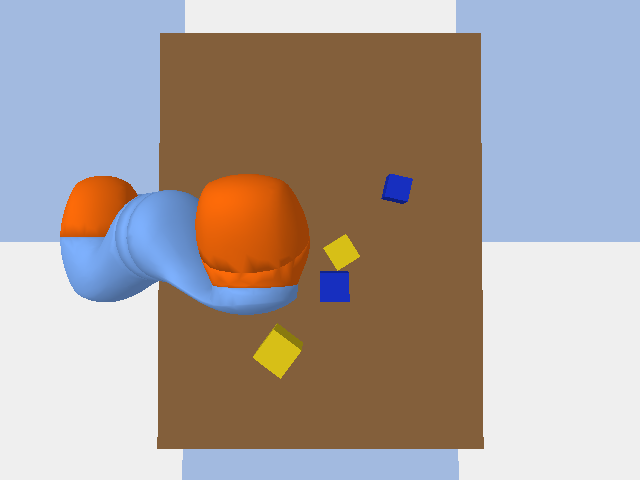blue_obj: (381, 174, 412, 203), (320, 271, 349, 301)
yellow_obj: (253, 323, 302, 378), (323, 234, 359, 270)
